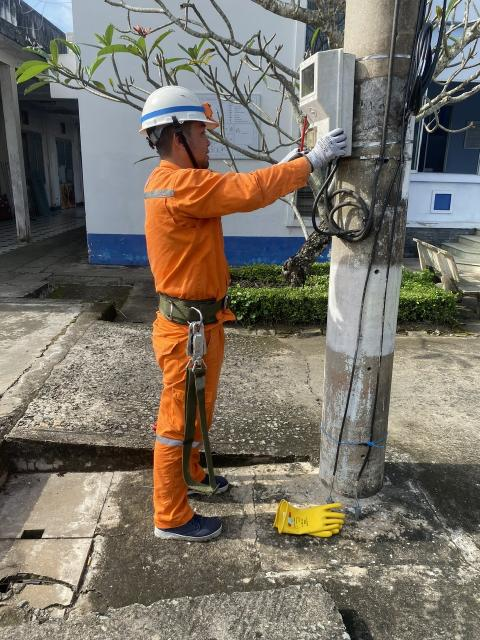gloves: (278, 498, 349, 548), (305, 130, 358, 169), (270, 143, 307, 170)
harness: (153, 290, 229, 327)
helmet: (134, 83, 225, 145)
shoes: (139, 500, 232, 555), (180, 458, 235, 501)
